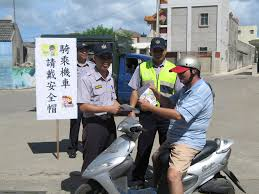helmet: (176, 55, 206, 69)
